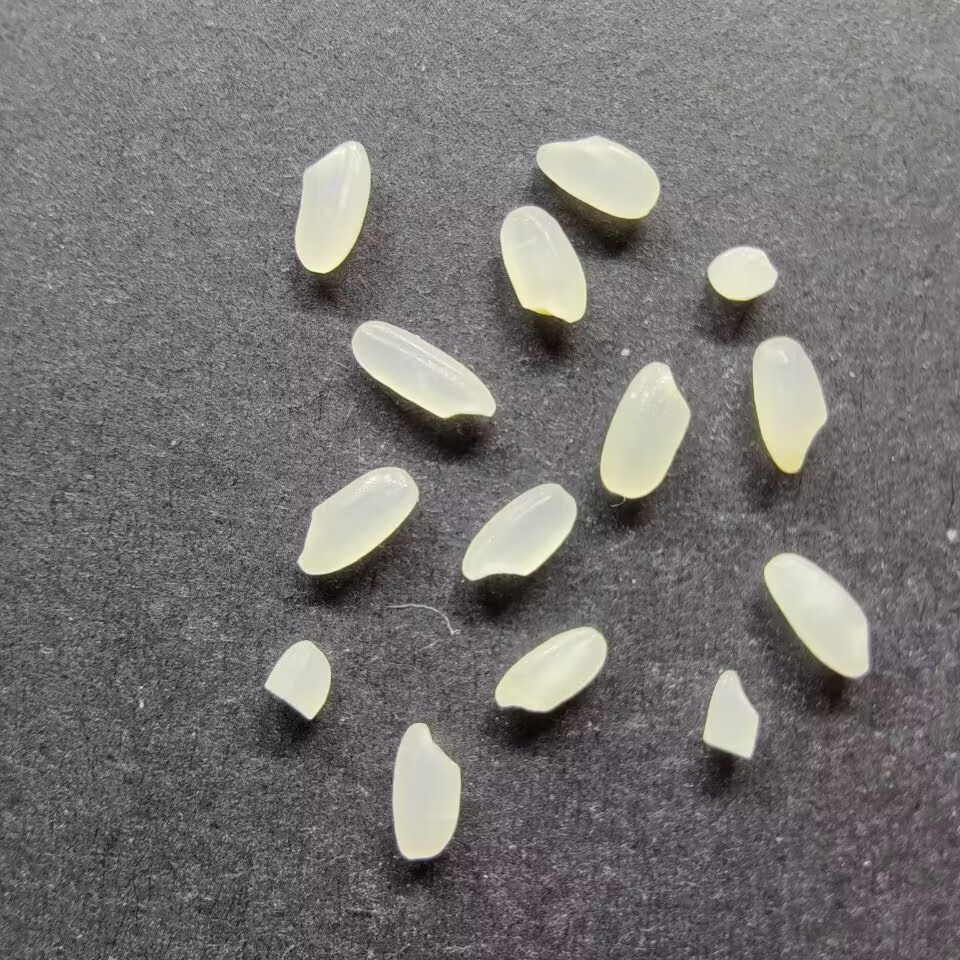broken: (263, 638, 334, 722), (700, 668, 760, 760), (705, 246, 779, 303)
rice: (349, 318, 496, 422), (762, 552, 871, 680), (296, 464, 419, 576), (599, 360, 691, 499), (459, 481, 577, 582), (534, 133, 660, 220), (750, 336, 828, 475), (388, 720, 463, 862), (294, 138, 372, 274), (499, 205, 587, 324), (494, 622, 606, 714)
